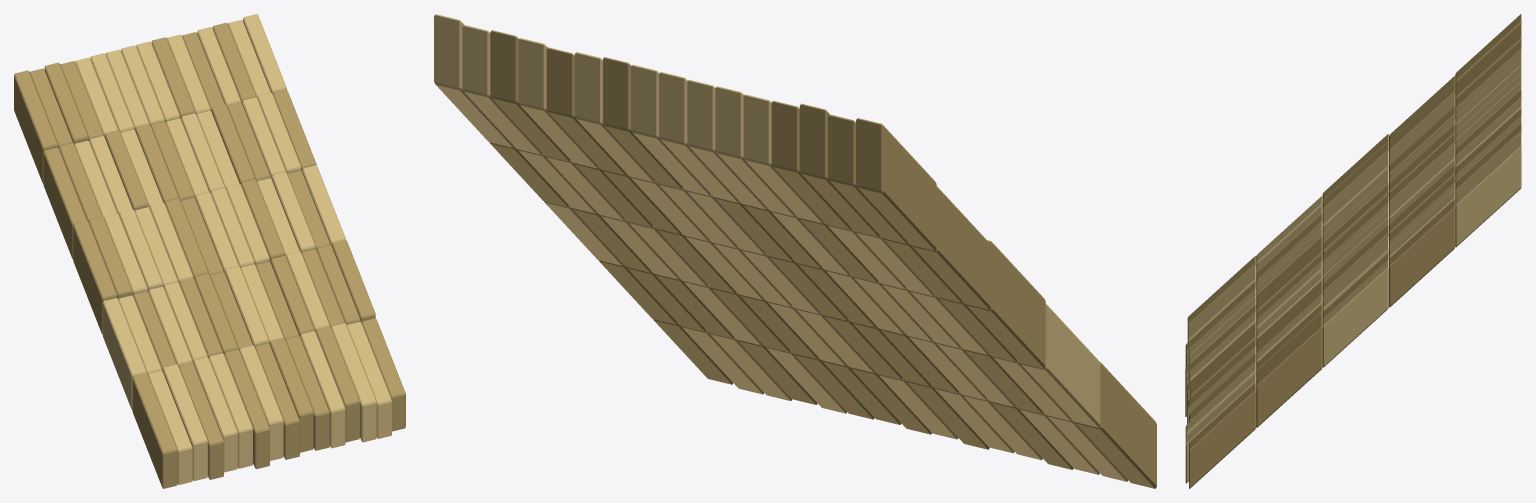
File: SM_Thatch_Roof_45.fbx
3 renders of one model, left to right at view 1: azimuth 30°, elevation 25°; view 2: azimuth 150°, elevation 25°; view 3: azimuth 270°, elevation 25°, orthographic. The views are drawn at different scales.
Visible parts, largest first — view 1: SM_Thatch_Roof_45; view 2: SM_Thatch_Roof_45; view 3: SM_Thatch_Roof_45.
Boxes of the visible parts, x1,y1,x2,y2 form: SM_Thatch_Roof_45: (14, 14, 405, 488); SM_Thatch_Roof_45: (434, 14, 1156, 488); SM_Thatch_Roof_45: (1185, 14, 1521, 488).
Bounding box in the file's own units: 2 × 2.42 × 2.13.
